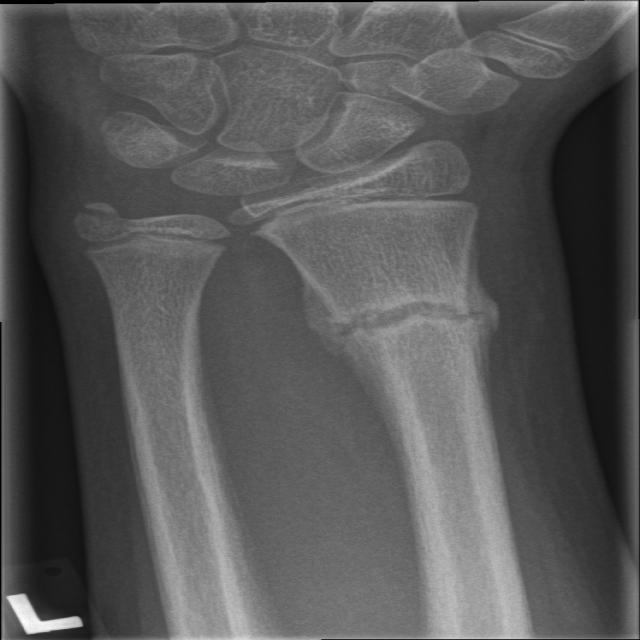radius fracture: (290, 252, 543, 416)
ulna fracture: (66, 194, 230, 373)
